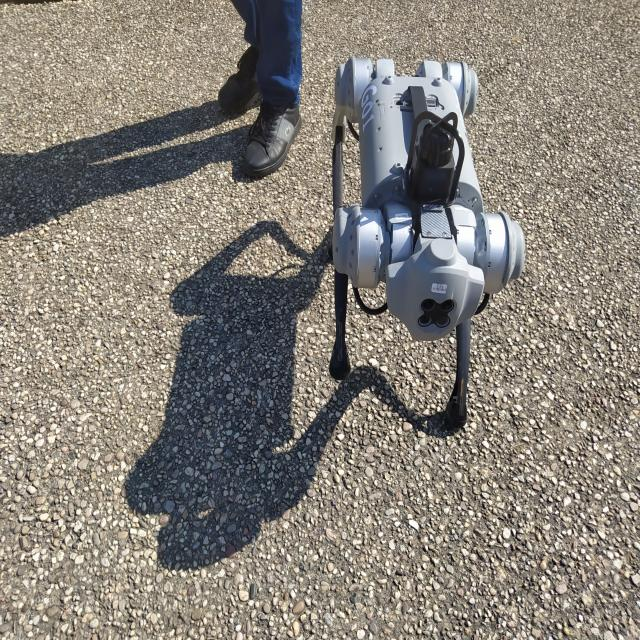unitree-go1-robot: (335, 63, 528, 430)
